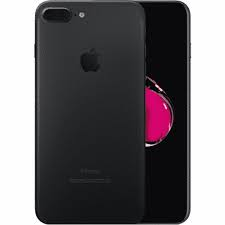iphone: (31, 1, 147, 223)
